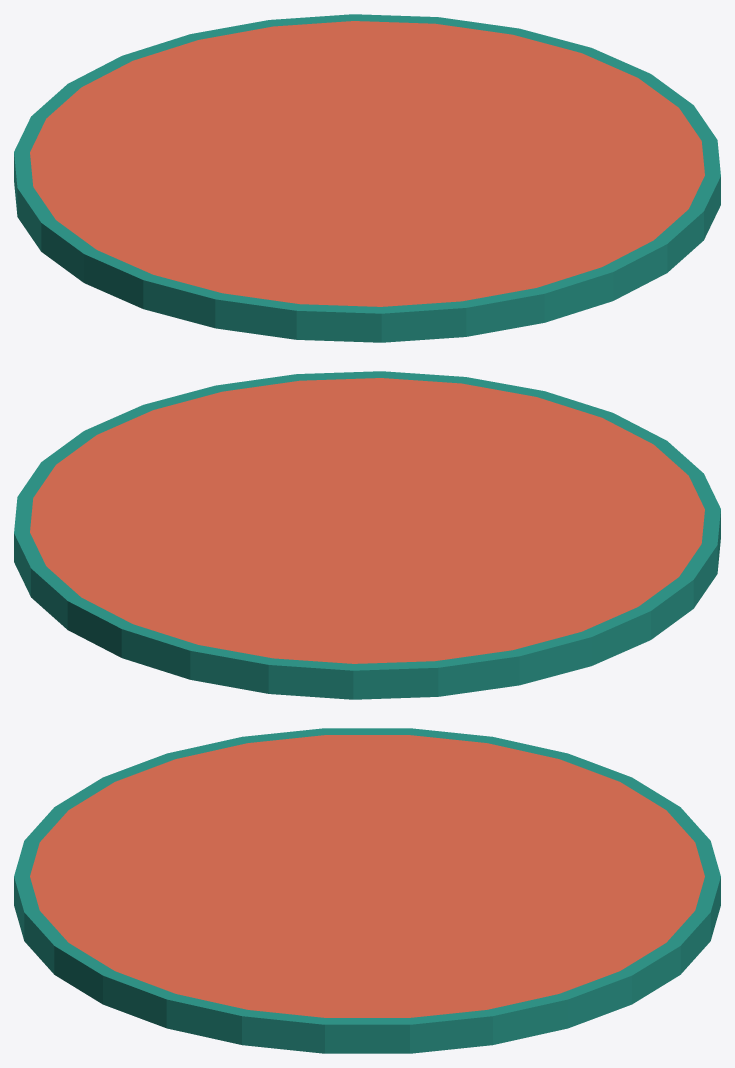
Rendered from plataformaCircular.fbx.
3 renders of one model, top to bottom at view 1: azimuth 30°, elevation 25°; view 2: azimuth 150°, elevation 25°; view 3: azimuth 270°, elevation 25°, orthographic.
Parts seen in each view (by area): view 1: platCircular; view 2: platCircular; view 3: platCircular.
Part boxes in pixels (box(x1,y1,x2,y2)): platCircular: box(14, 14, 720, 342); platCircular: box(14, 371, 720, 699); platCircular: box(14, 728, 720, 1053).
Bounding box in the file's own units: 412 × 31.8 × 415.
